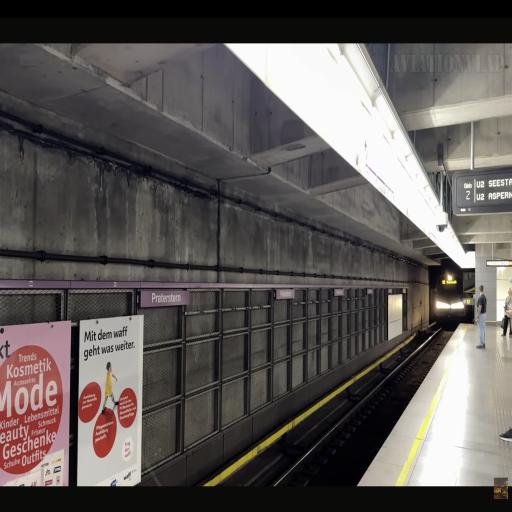V-Wagen: (434, 268, 476, 322)
